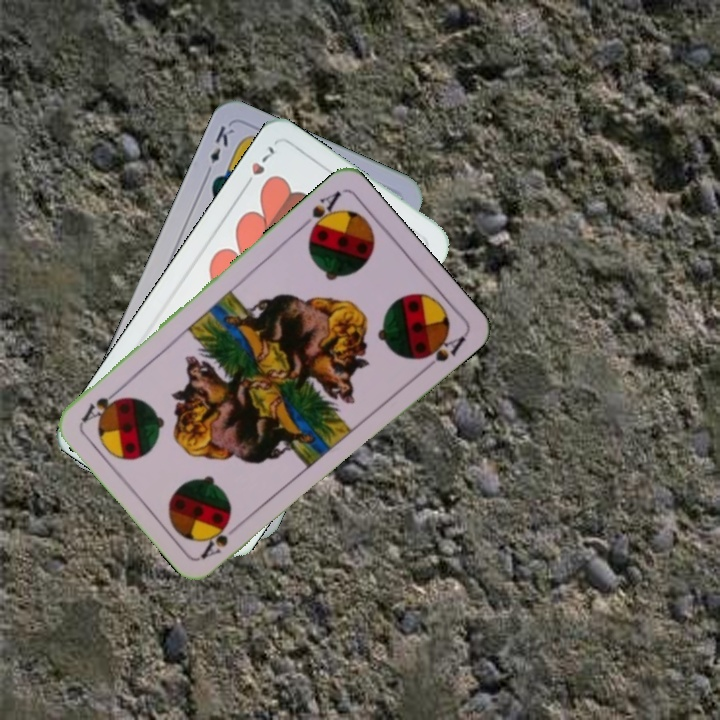EK: (201, 121, 237, 179)
H7: (239, 141, 278, 192)
SA: (296, 186, 344, 239), (197, 517, 244, 562)
